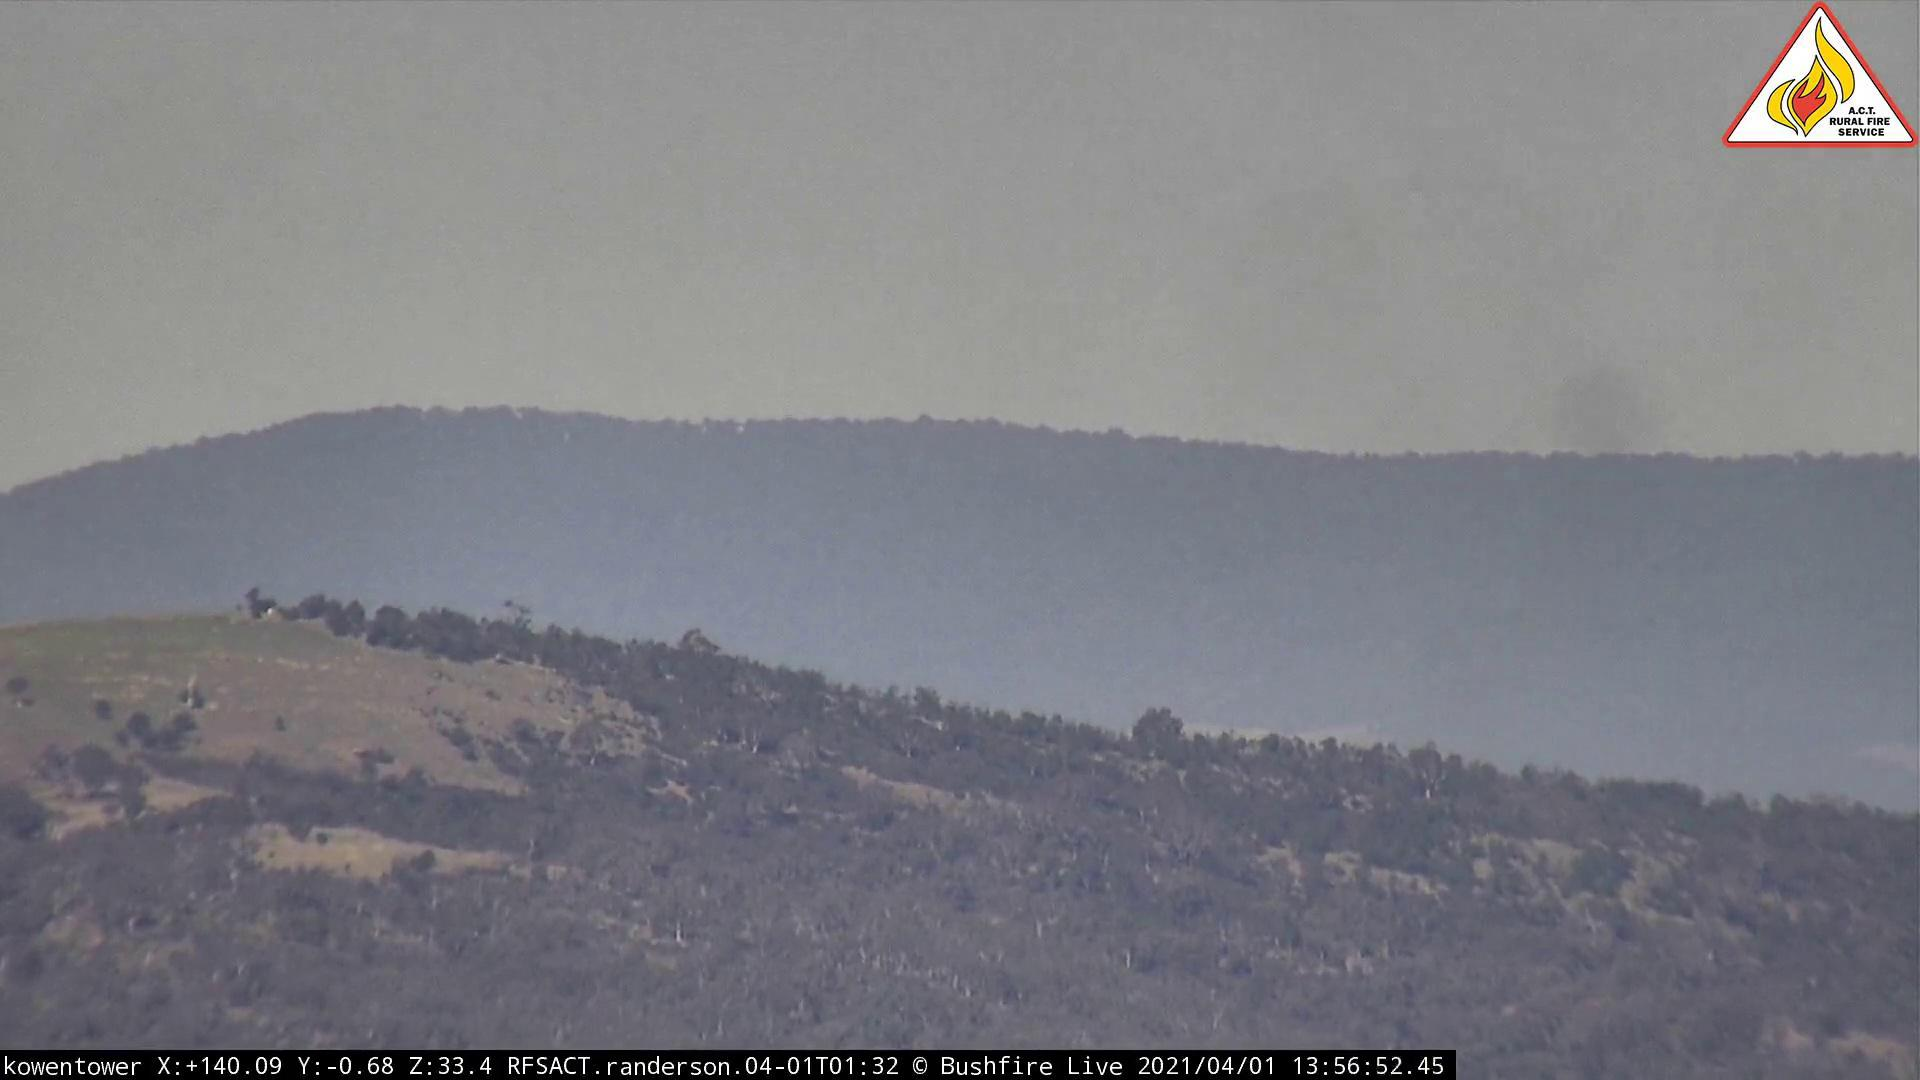Smoke: (1164, 214, 1724, 647)
